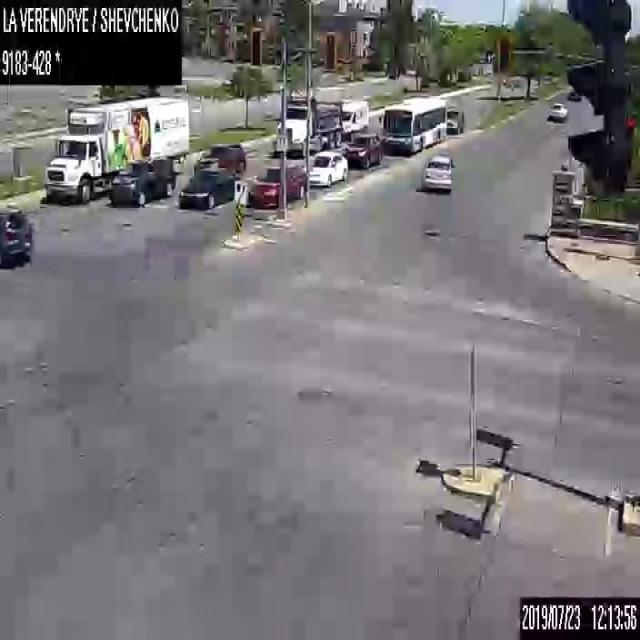bus: (378, 96, 446, 152)
vehicle: (42, 92, 188, 203), (278, 96, 342, 152), (109, 156, 174, 204), (177, 166, 240, 208), (248, 163, 306, 208), (0, 207, 32, 268), (192, 142, 245, 176), (302, 149, 348, 187), (342, 131, 382, 169), (421, 152, 454, 189), (339, 99, 368, 132), (446, 108, 464, 134), (548, 100, 566, 120), (566, 90, 581, 102), (307, 99, 308, 100)
